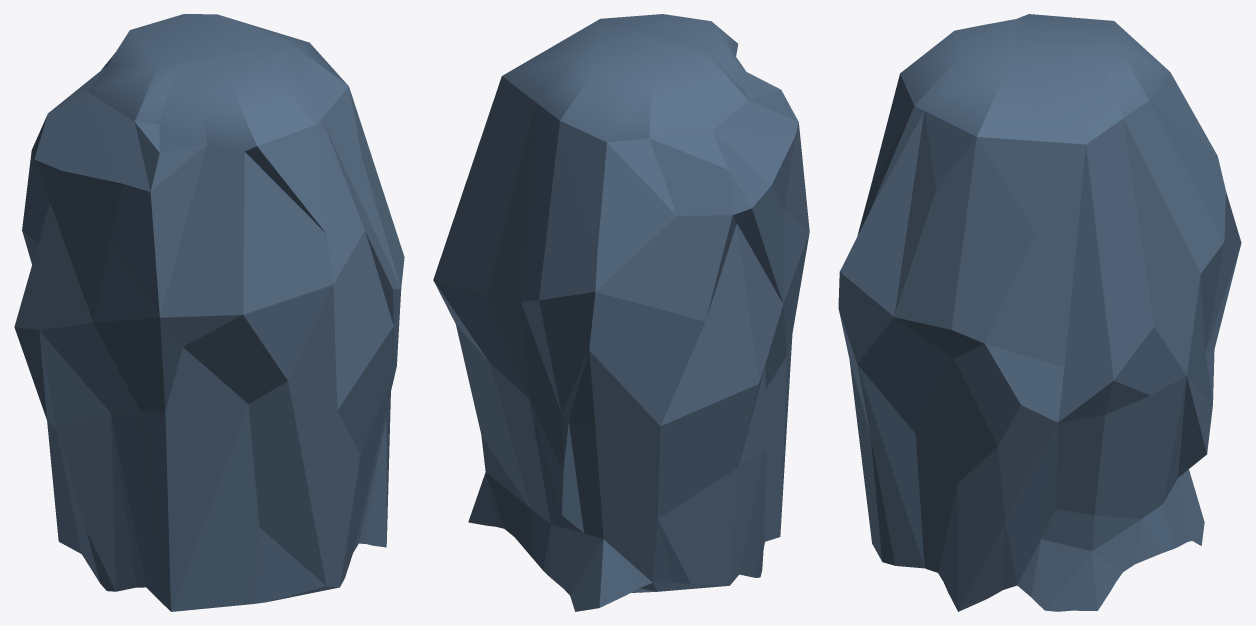
The model's file is roca1.fbx.
The picture shows the model from 3 angles, left to right: view 1: azimuth 30°, elevation 25°; view 2: azimuth 150°, elevation 25°; view 3: azimuth 270°, elevation 25°; orthographic projection.
Visible parts, largest first — view 1: r1; view 2: r1; view 3: r1.
Boxes of the visible parts, x1=… form: r1: x1=14, y1=14, x2=404, y2=611; r1: x1=433, y1=14, x2=809, y2=611; r1: x1=838, y1=14, x2=1241, y2=611.
Bounding box in the file's own units: 12.36 × 18.22 × 12.97.
